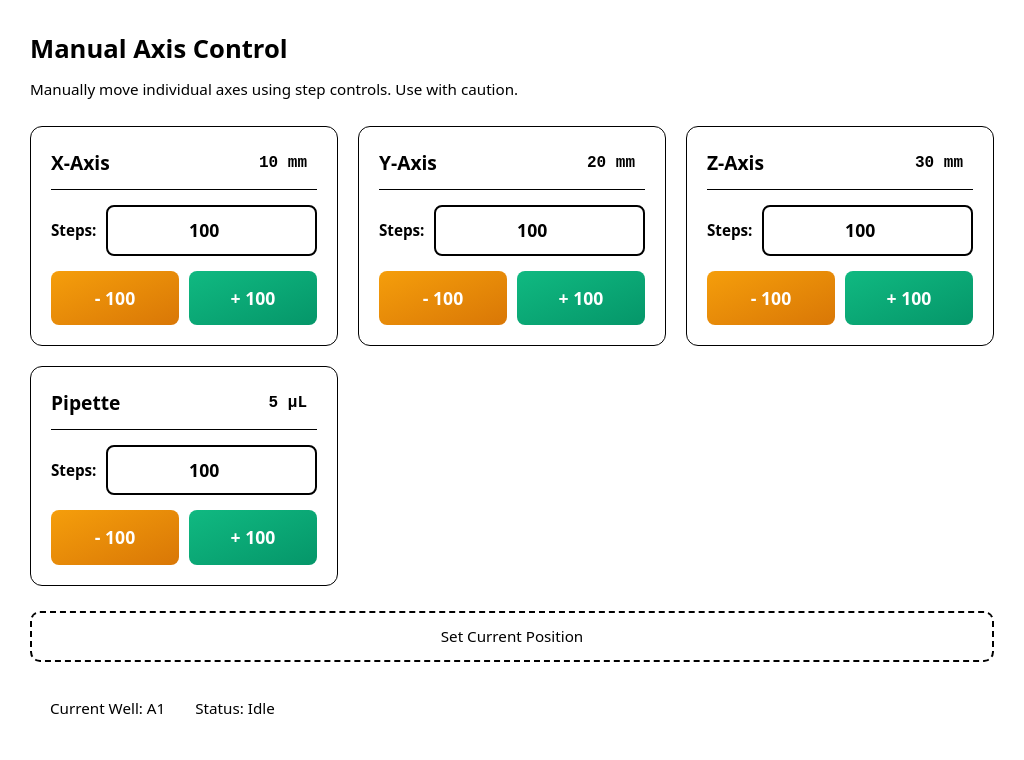
Test case: ManualTab › Position edit mode › edit mode pre-fills position inputs with current axis values
Click the button "Set Current Position". click: x=512, y=636
box: [30,611,994,662]
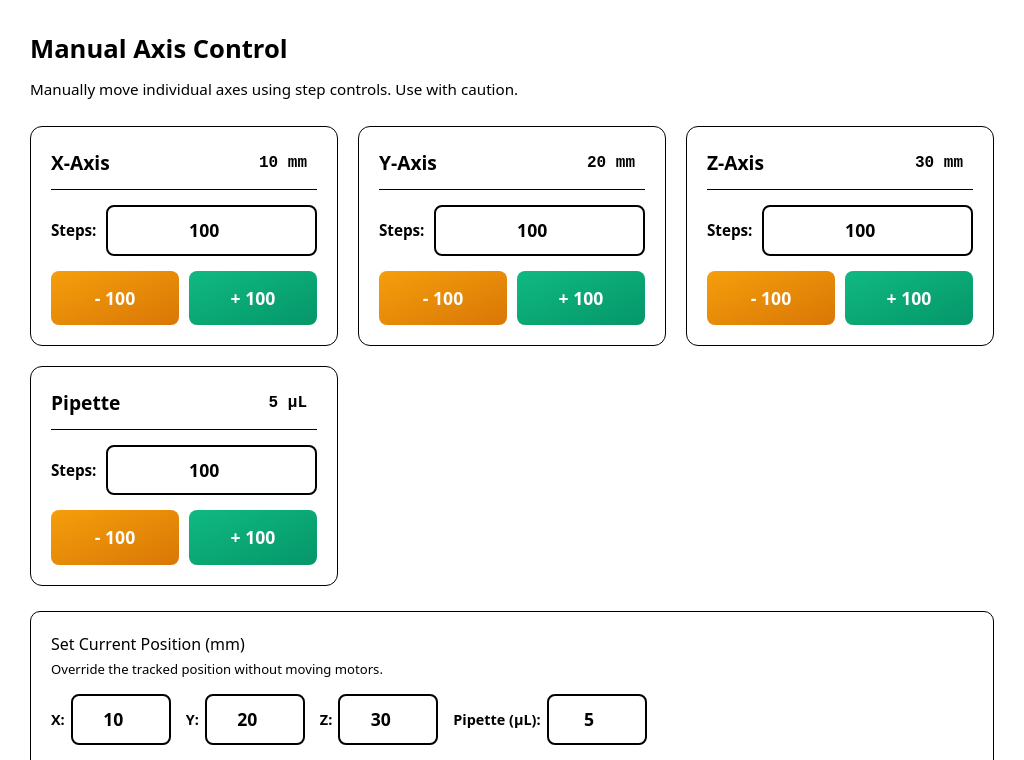
Result: the number field labelled "X:" holds "10" at [71,694,171,745]
Result: the number field labelled "Y:" holds "20" at [205,694,305,745]
Result: the number field labelled "Z:" holds "30" at [338,694,438,745]
